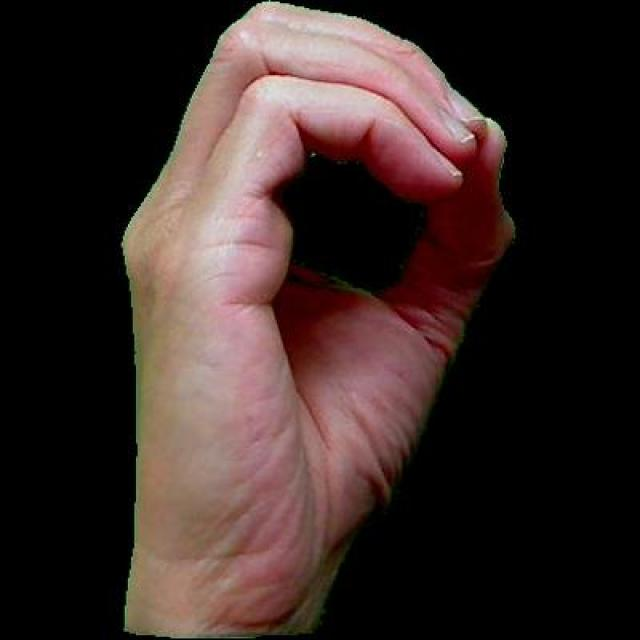o: (100, 0, 534, 637)
